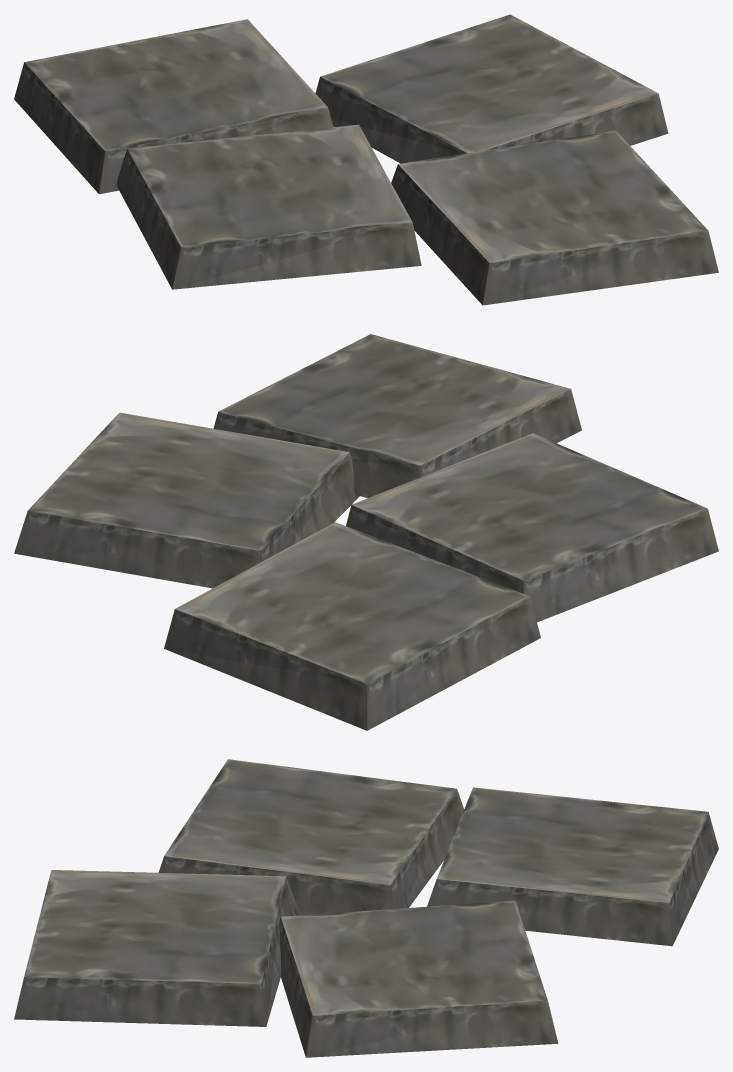
File: Floor_blocks_001.obj
The picture shows the model from 3 angles, top to bottom: view 1: azimuth 30°, elevation 25°; view 2: azimuth 150°, elevation 25°; view 3: azimuth 270°, elevation 25°; orthographic projection. The views are drawn at different scales.
Parts seen in each view (by area): view 1: Floor_blocks_001; view 2: Floor_blocks_001; view 3: Floor_blocks_001.
Boxes of the visible parts, x1,y1,x2,y2 form: Floor_blocks_001: (14,14,718,305); Floor_blocks_001: (14,334,718,730); Floor_blocks_001: (14,759,718,1057).
Bounding box in the file's own units: 16 × 1.53 × 18.3.
